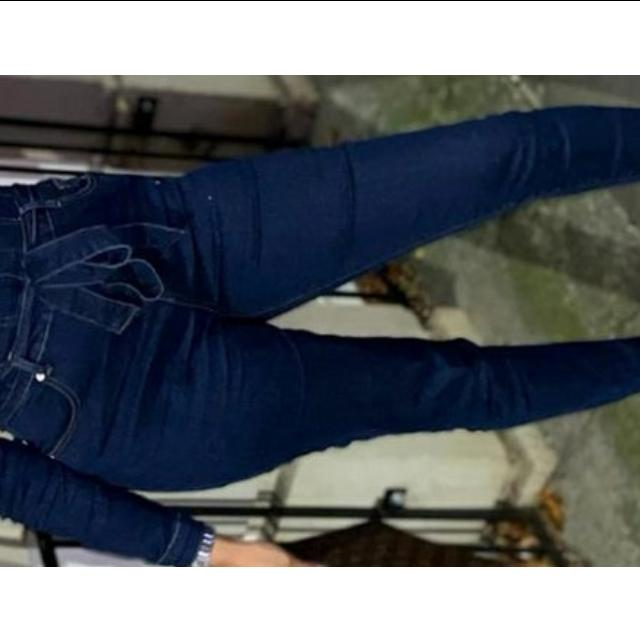denim: (1, 172, 308, 472)
